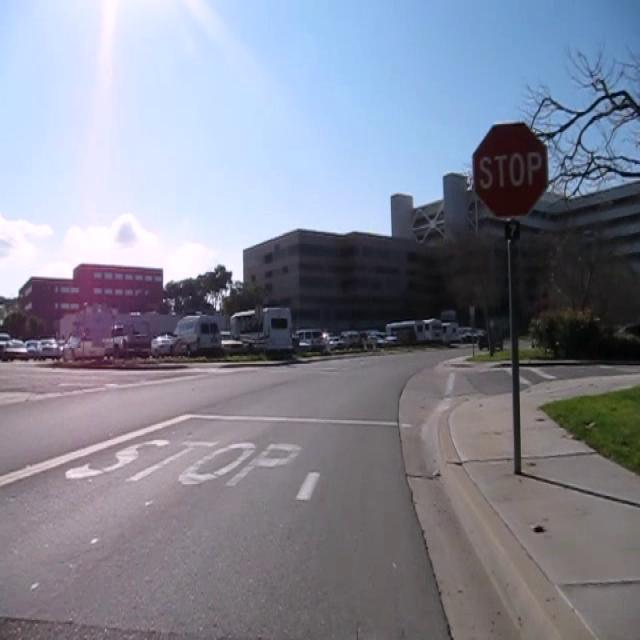stop: (472, 120, 549, 219)
